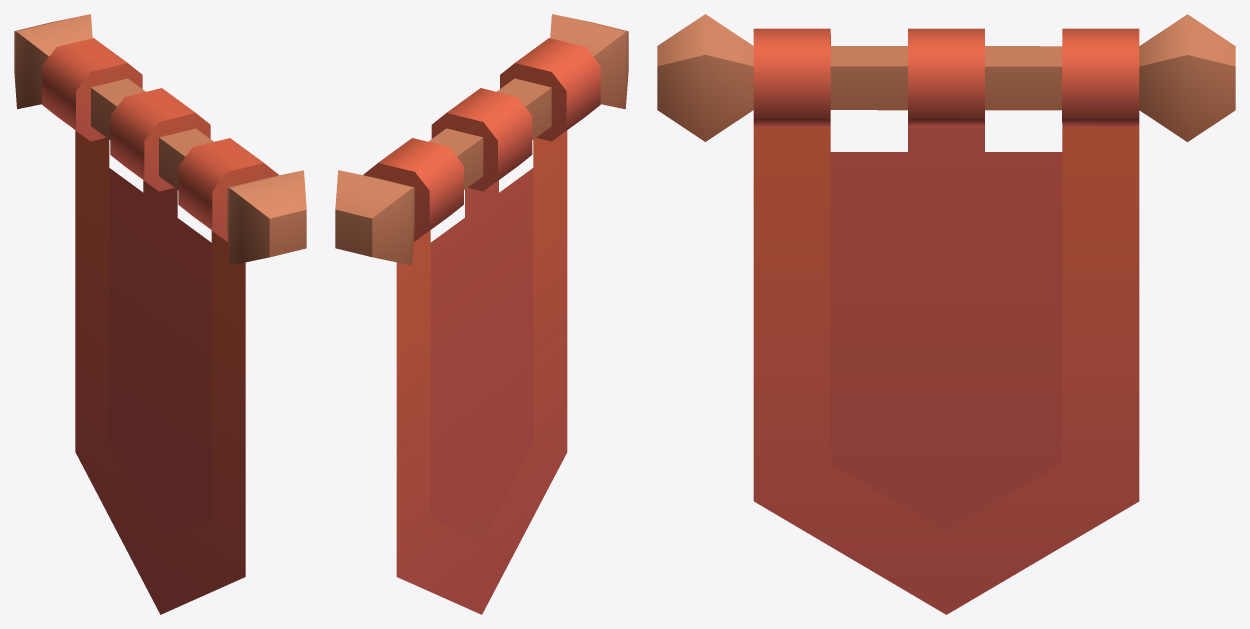
The model's file is banner.003_lev5.glb.
3 renders of one model, left to right at view 1: azimuth 30°, elevation 25°; view 2: azimuth 150°, elevation 25°; view 3: azimuth 270°, elevation 25°, orthographic. The views are drawn at different scales.
Visible parts, largest first — view 1: banner.003_lev5; view 2: banner.003_lev5; view 3: banner.003_lev5.
Boxes of the visible parts, left/top/right/bottom form: banner.003_lev5: left=14, top=14, right=306, bottom=614; banner.003_lev5: left=335, top=14, right=628, bottom=614; banner.003_lev5: left=657, top=14, right=1235, bottom=614.
Size of the model in its own units: 0.4019 by 2.66 by 2.4.
Materials: 1 (1 with a texture image).
